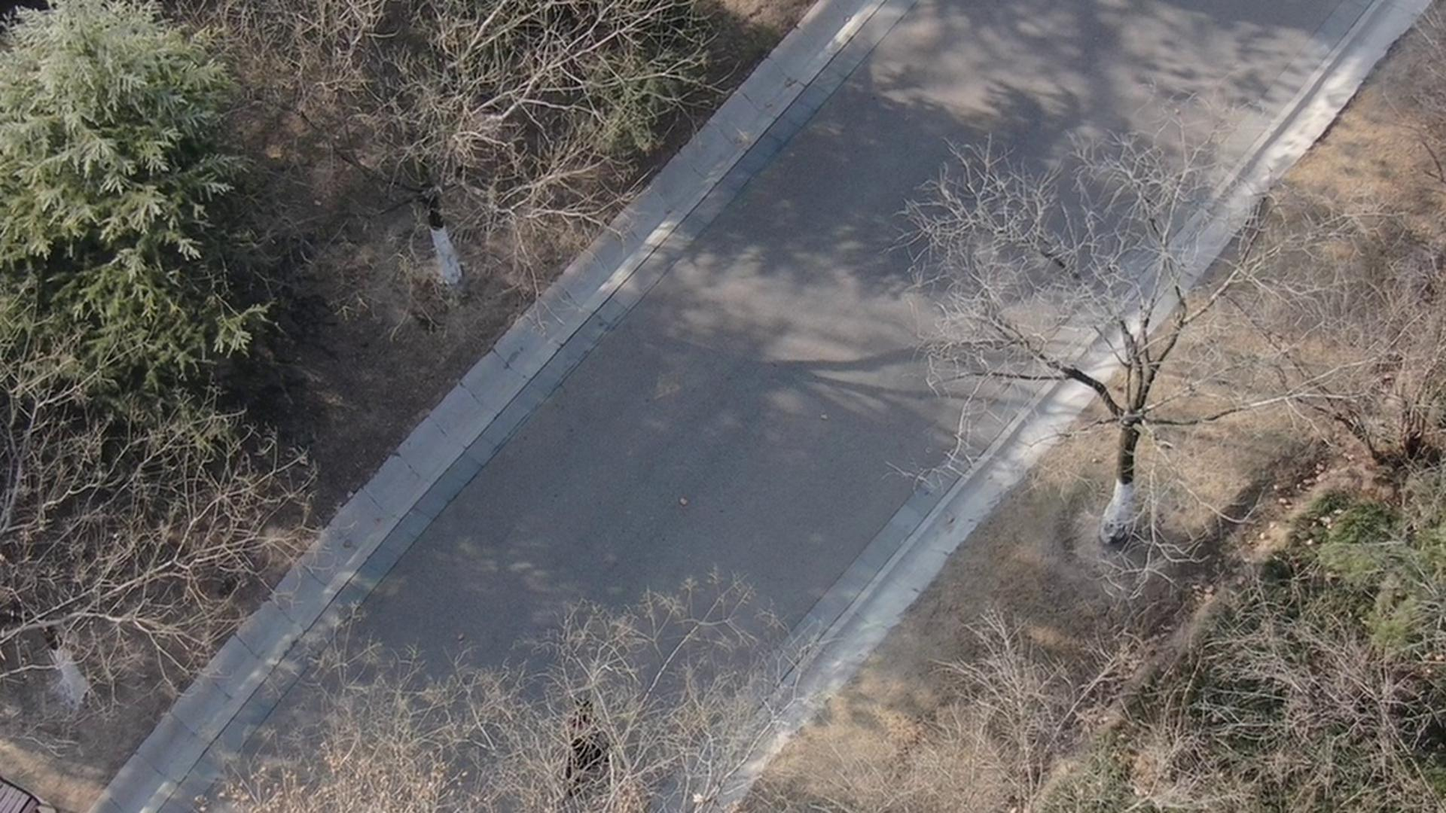human: (537, 689, 604, 789)
